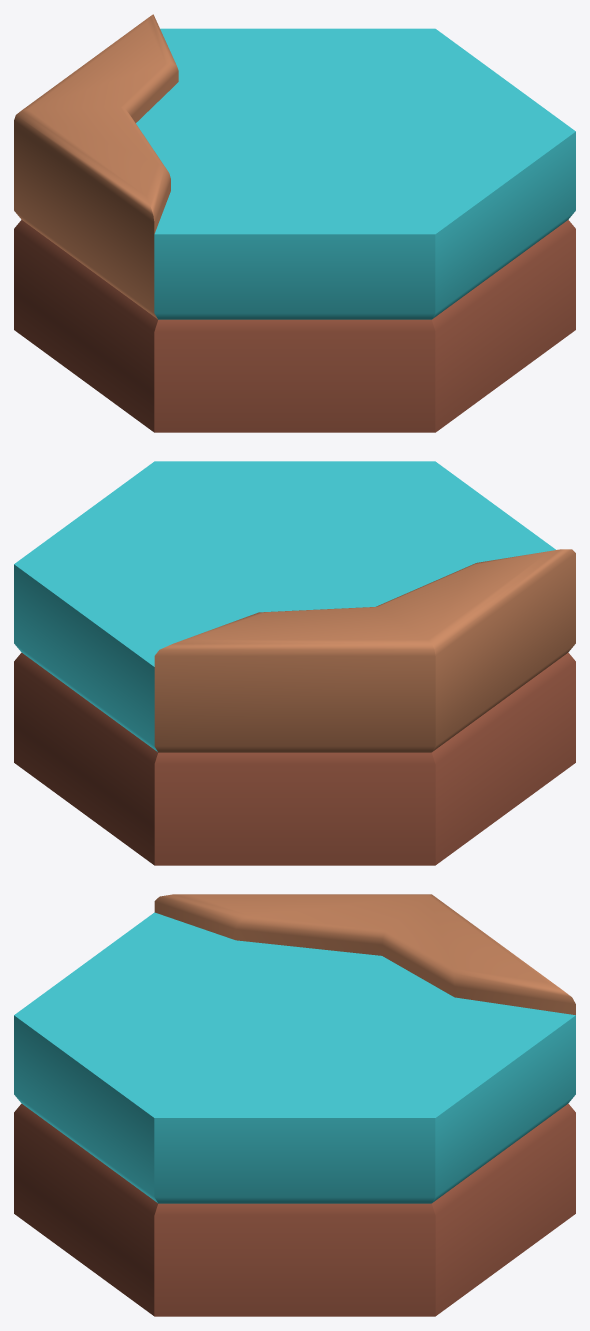
Rendered from hex_rock_waterA_detail.glb.
3 renders of one model, top to bottom at view 1: azimuth 30°, elevation 25°; view 2: azimuth 150°, elevation 25°; view 3: azimuth 270°, elevation 25°, orthographic.
Visible parts, largest first — view 1: hex_rock_waterA_detail; view 2: hex_rock_waterA_detail; view 3: hex_rock_waterA_detail.
Boxes of the visible parts, x1=… form: hex_rock_waterA_detail: x1=14, y1=14, x2=575, y2=432; hex_rock_waterA_detail: x1=14, y1=461, x2=575, y2=865; hex_rock_waterA_detail: x1=14, y1=894, x2=575, y2=1316.
Bounding box in the file's own units: 3.82 × 1.91 × 4.41.
